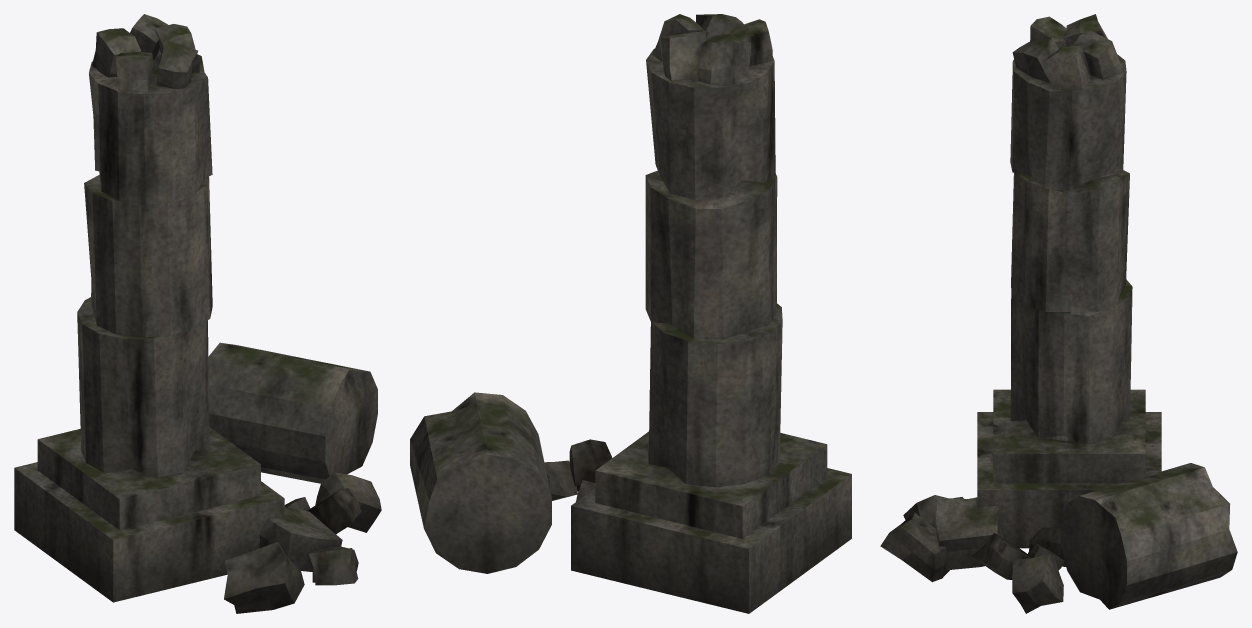
The model's file is ruin_pillar.glb.
The picture shows the model from 3 angles, left to right: view 1: azimuth 30°, elevation 25°; view 2: azimuth 150°, elevation 25°; view 3: azimuth 270°, elevation 25°; orthographic projection. The views are drawn at different scales.
Parts seen in each view (by area): view 1: ruin_pillar; view 2: ruin_pillar; view 3: ruin_pillar.
Boxes of the visible parts, left/top/right/bottom form: ruin_pillar: left=14, top=14, right=381, bottom=613; ruin_pillar: left=410, top=14, right=851, bottom=613; ruin_pillar: left=880, top=14, right=1237, bottom=613.
Size of the model in its own units: 2.31 by 3.46 by 2.23.
Materials: 1 (1 with a texture image).
